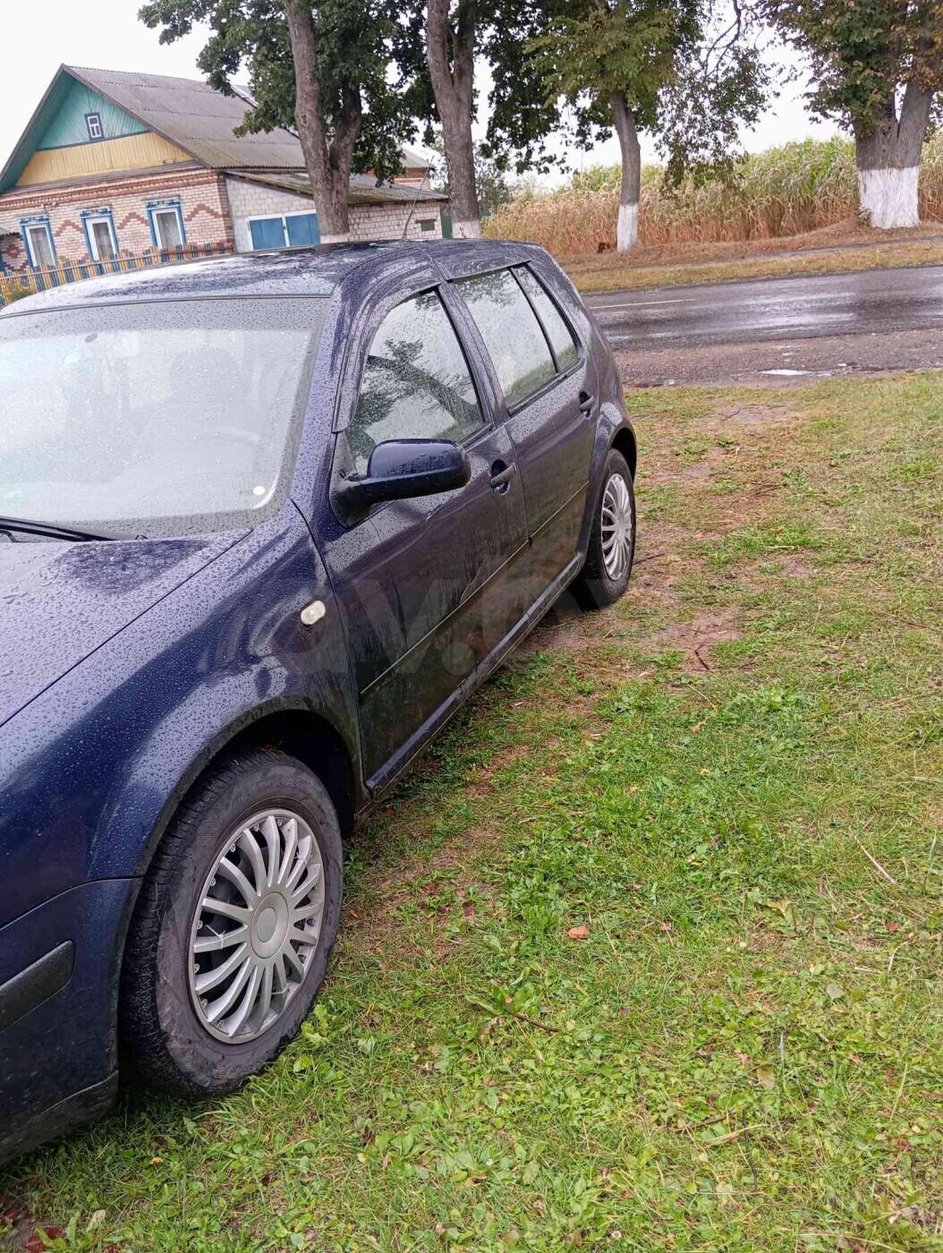Golf_1997-2006: (0, 238, 635, 1117)
